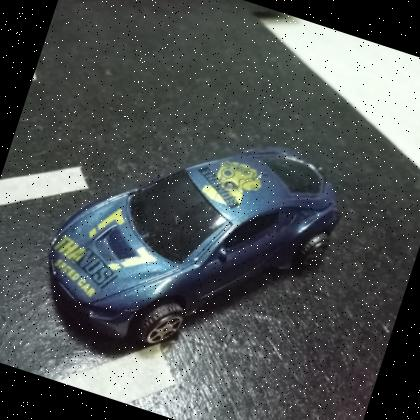Car: (25, 83, 360, 395)
